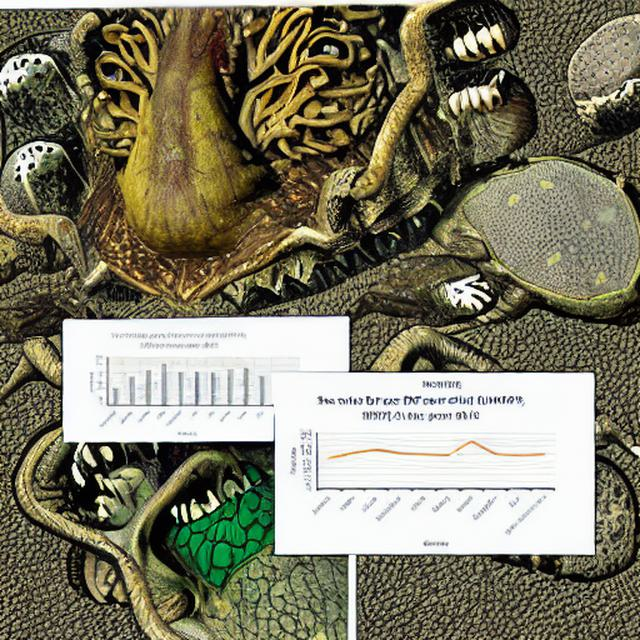Graph: (283, 390, 558, 553), (84, 328, 273, 440)
